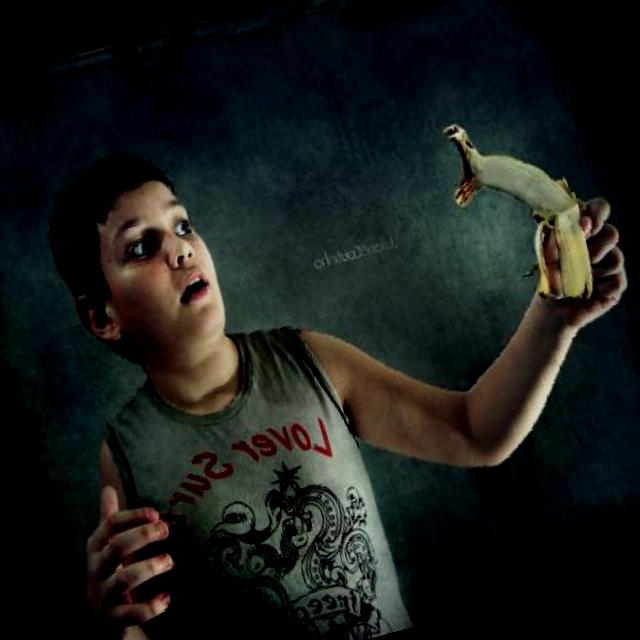Person: (0, 49, 584, 640)
